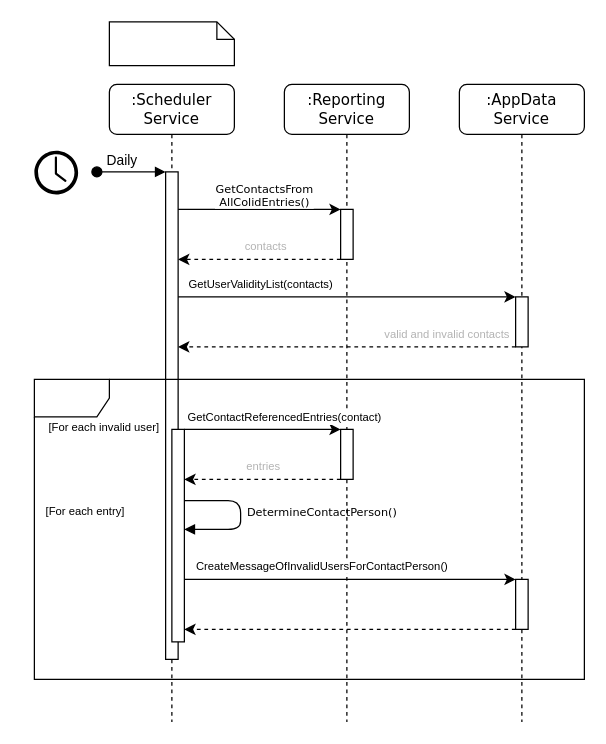
Image size: 606x744. Some labels were removed from this diagram. The centre of each missing label's shape, as x and y in pixels:
"Hangfire" goes at (x=171, y=43).
"Loop" goes at (x=308, y=528).
